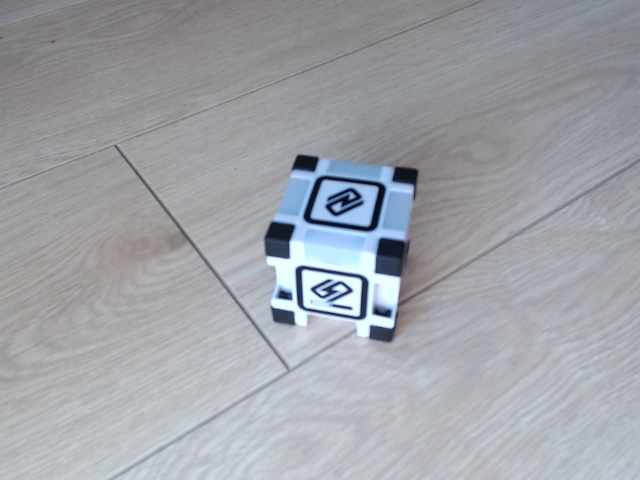block: (261, 150, 420, 347)
